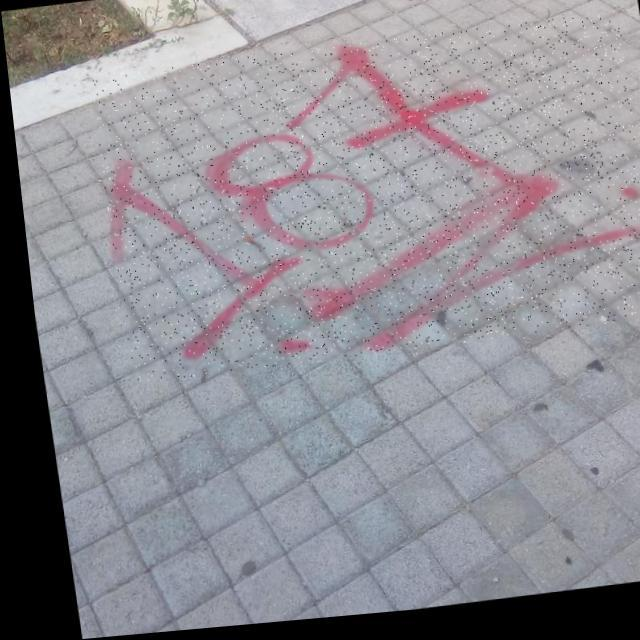-: (85, 22, 640, 386)
